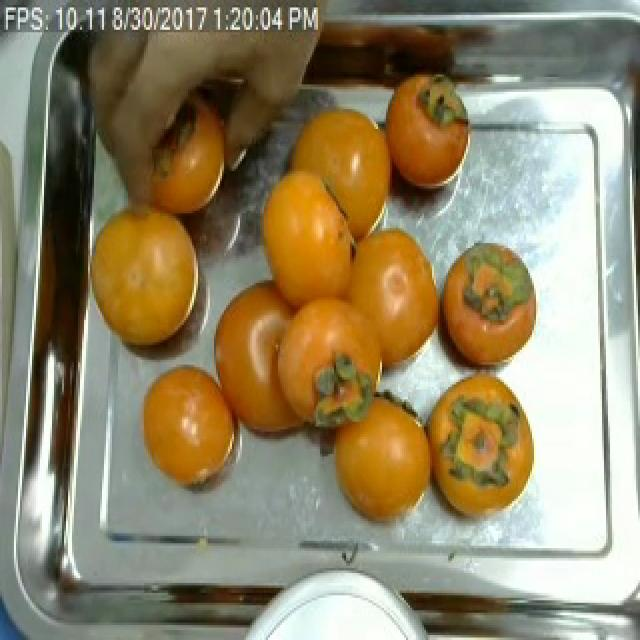Fruit: (200, 255, 352, 464), (302, 377, 446, 543), (332, 208, 444, 404), (86, 189, 204, 367), (130, 349, 250, 504), (424, 365, 542, 521), (432, 230, 546, 384), (372, 57, 478, 218)
